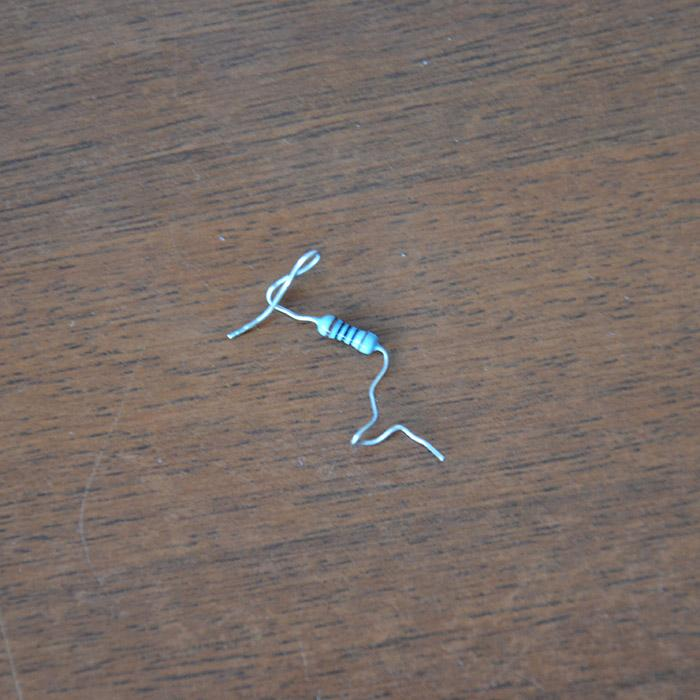resistor: (314, 313, 381, 356)
